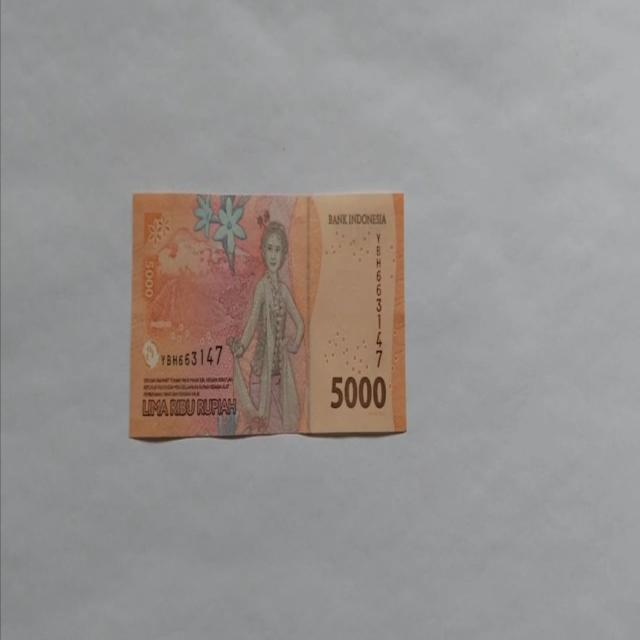lima ribu rupiah: (128, 189, 406, 441), (225, 220, 305, 434)
